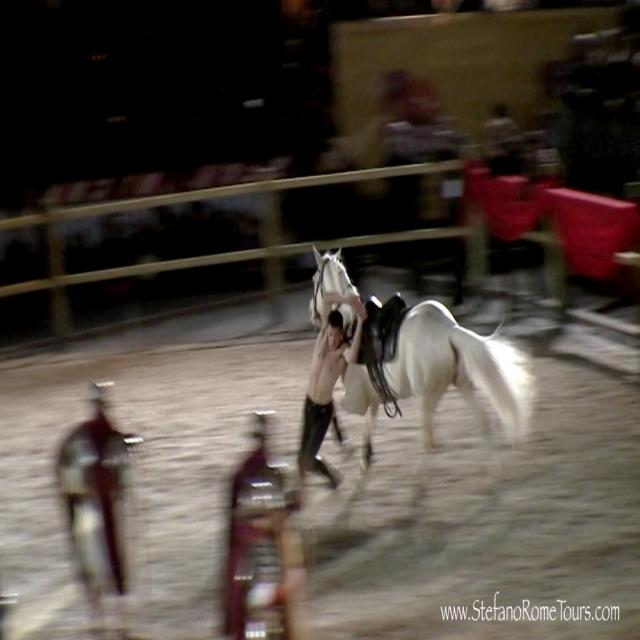Horse: (309, 246, 537, 506)
